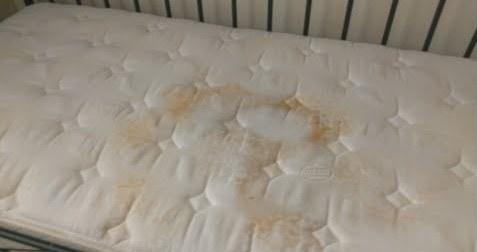Bed-Mattress: (0, 1, 477, 252)
